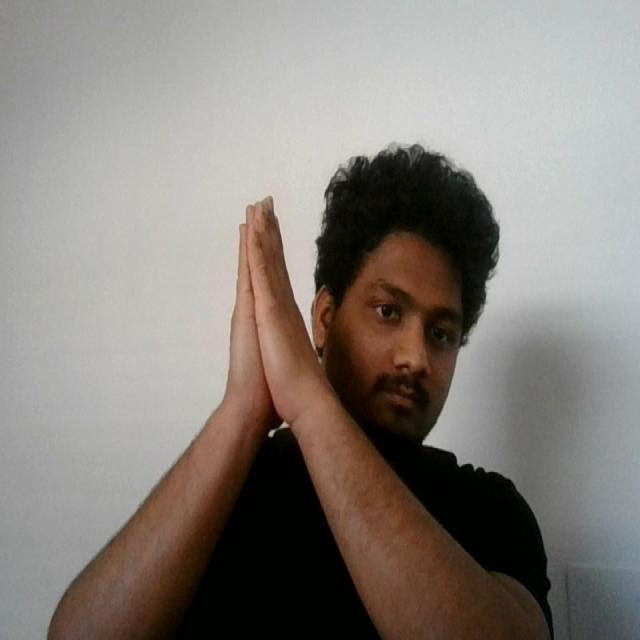Thanks: (224, 190, 325, 446)
